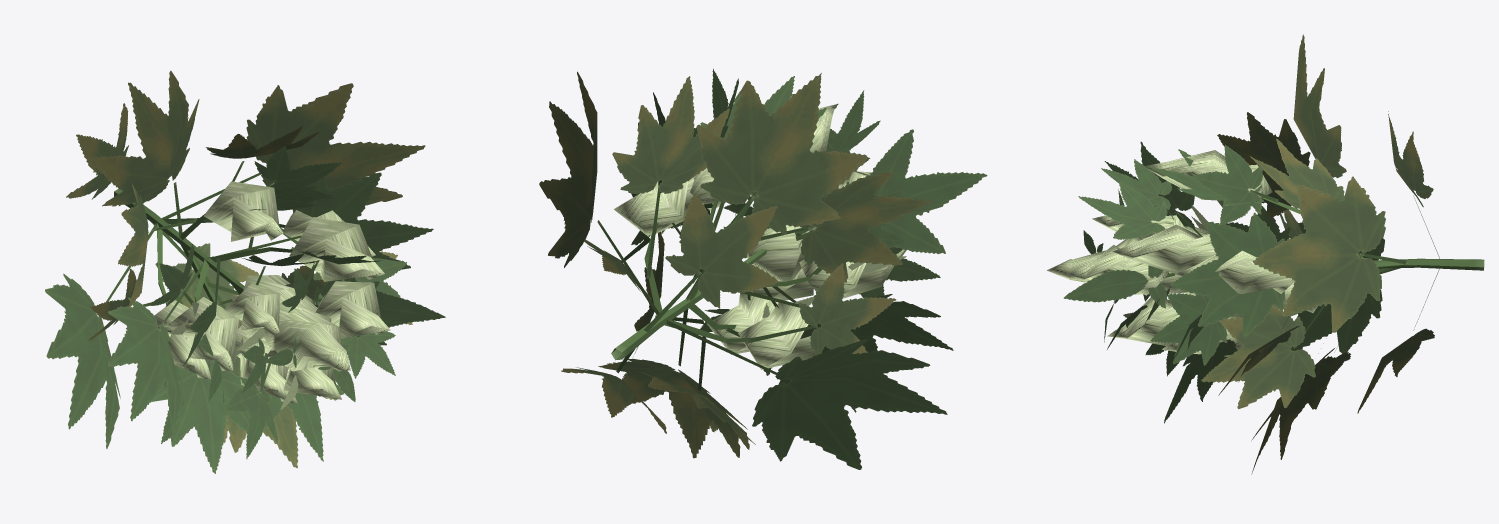
File: p_frosty_kush_ripe_c0_cards.obj
3 renders of one model, left to right at view 1: azimuth 30°, elevation 25°; view 2: azimuth 150°, elevation 25°; view 3: azimuth 270°, elevation 25°, orthographic. The views are drawn at different scales.
Size of the model in its own units: 1.52 by 1.51 by 1.35.
Materials: 1 (1 with a texture image).
